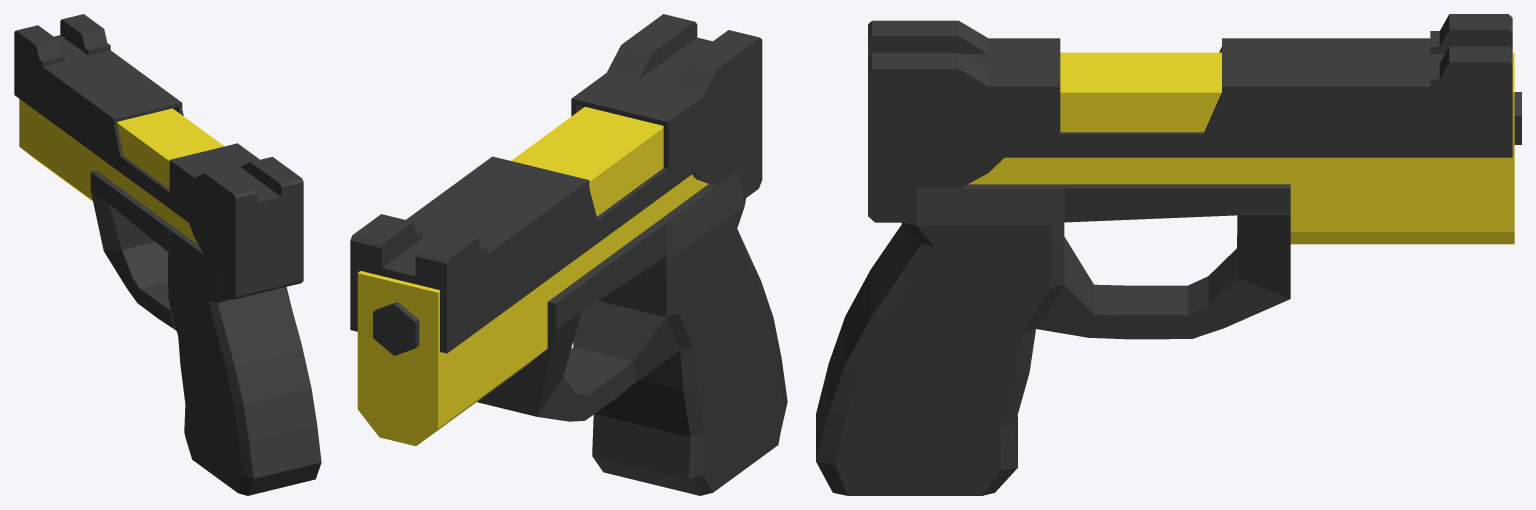
Rendered from Pistol.fbx.
The picture shows the model from 3 angles, left to right: view 1: azimuth 30°, elevation 25°; view 2: azimuth 150°, elevation 25°; view 3: azimuth 270°, elevation 25°; orthographic projection. The views are drawn at different scales.
Parts seen in each view (by area): view 1: Cube.005, Cube.006, Cube.004; view 2: Cube.005, Cube.006, Cube.004; view 3: Cube.005, Cube.006, Cube.004.
Part boxes in pixels (x1,y1,x2,y2): Cube.005: [90, 170, 321, 495]; Cube.006: [14, 14, 303, 277]; Cube.004: [19, 99, 224, 244]; Cube.005: [477, 153, 787, 495]; Cube.006: [350, 14, 762, 353]; Cube.004: [357, 107, 708, 446]; Cube.005: [816, 184, 1290, 495]; Cube.006: [868, 14, 1512, 188]; Cube.004: [968, 52, 1521, 244].
Bounding box in the file's own units: 11.05 × 40.54 × 60.24.
